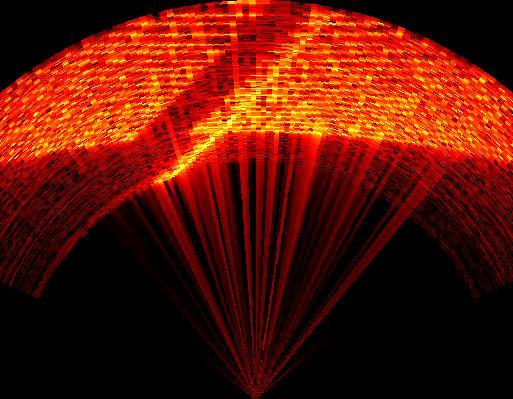pipe: (128, 4, 347, 181)
